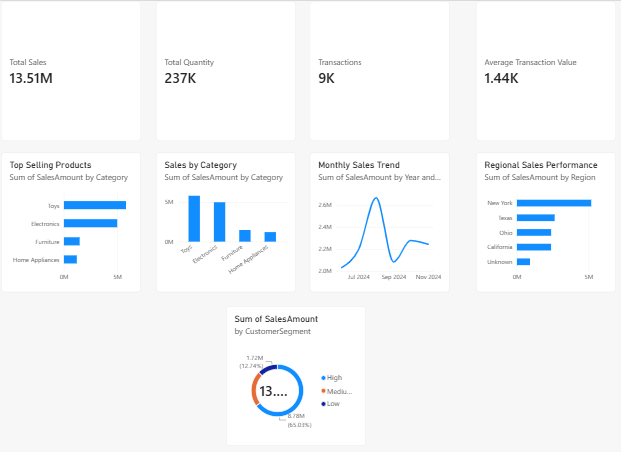

What the dashboard file says about the page in this screenshot:
{"tool":"powerbi","page":{"name":"Page 1","canvas":[1920,1080],"ordinal":0},"visuals":[{"type":"cardVisual","fields":{"Data":["fact_sales.Total Sales"]},"box":[10,0,280,280],"z":0},{"type":"cardVisual","fields":{"Data":["fact_sales.Total Quantity"]},"box":[320,0,280,280],"z":1000},{"type":"cardVisual","fields":{"Data":["fact_sales.Transactions"]},"box":[626.7,0,280,280],"z":2000},{"type":"cardVisual","fields":{"Data":["fact_sales.Average Transaction Value"]},"box":[960,0,280,280],"z":3000},{"type":"clusteredBarChart","title":"Top Selling Products","fields":{"Category":["dim_product.Category"],"Y":["Sum(fact_sales.SalesAmount)"]},"box":[10,302.5,280,280],"z":4000},{"type":"clusteredColumnChart","title":"Sales by Category","fields":{"Category":["dim_product.Category"],"Y":["Sum(fact_sales.SalesAmount)"]},"box":[320,302.5,280,280],"z":5000},{"type":"lineChart","title":"Monthly Sales Trend","fields":{"Category":["dim_date.Date.Variation.Date Hierarchy.Year","dim_date.Date.Variation.Date Hierarchy.Month"],"Y":["Sum(fact_sales.SalesAmount)"]},"box":[627.5,302.5,280,280],"z":6000},{"type":"clusteredBarChart","title":"Regional Sales Performance","fields":{"Category":["dim_region.Region"],"Y":["Sum(fact_sales.SalesAmount)"]},"box":[960,302.5,280,280],"z":6001},{"type":"donutChart","fields":{"Category":["dim_customer.CustomerSegment"],"Y":["Sum(fact_sales.SalesAmount)"]},"box":[460,610,280,280],"z":6002}]}

Visuals, with their boxes on the page's 1920x1080 design canvas (x1, y1, x2, y2). These are canvas units, not pixel positions in the 621x452 screenshot, which may show the page scaled, cropped or inside an application window:
cardVisual - fact_sales.Total Sales: detection(10, 0, 290, 280)
cardVisual - fact_sales.Total Quantity: detection(320, 0, 600, 280)
cardVisual - fact_sales.Transactions: detection(627, 0, 907, 280)
cardVisual - fact_sales.Average Transaction Value: detection(960, 0, 1240, 280)
"Top Selling Products" clusteredBarChart: detection(10, 302, 290, 582)
"Sales by Category" clusteredColumnChart: detection(320, 302, 600, 582)
"Monthly Sales Trend" lineChart: detection(628, 302, 908, 582)
"Regional Sales Performance" clusteredBarChart: detection(960, 302, 1240, 582)
donutChart - dim_customer.CustomerSegment x Sum(fact_sales.SalesAmount): detection(460, 610, 740, 890)
